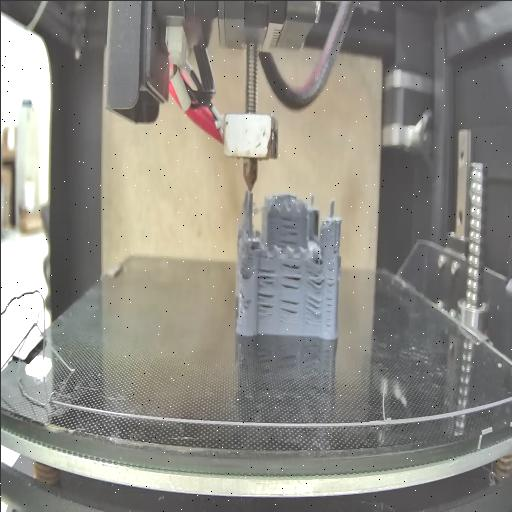cracks: (256, 264, 274, 318), (276, 208, 300, 244), (278, 260, 300, 289), (324, 266, 332, 329), (277, 297, 298, 317), (236, 286, 252, 312), (304, 294, 322, 316), (305, 268, 323, 288), (239, 260, 250, 276), (332, 242, 338, 256)
